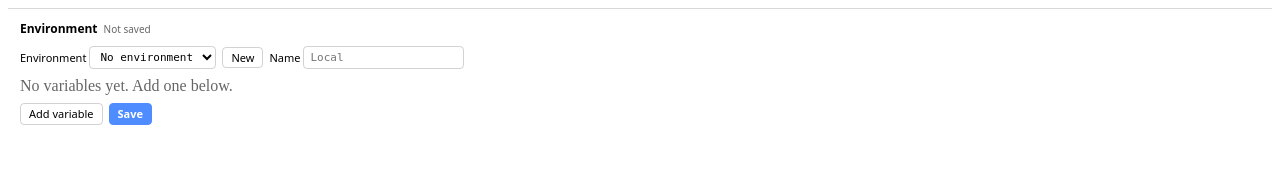
Test case: EnvironmentPanel › reports a failed save instead of showing success
This screenshot has width=1280, height=196.
Step 1. Select "Local" in the dropdown labelled "Environment" → (153, 58), box [89,46,216,69]
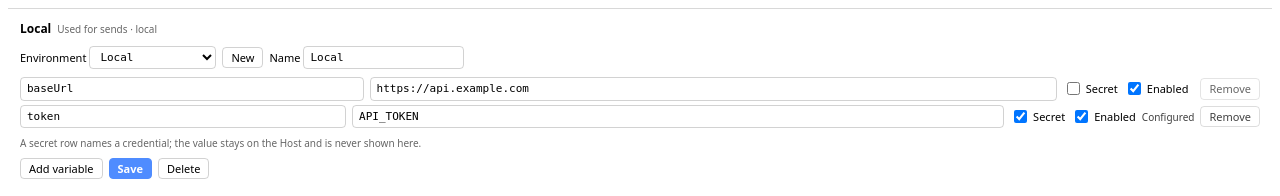
Expected: the field labelled "Name" holds "Local", [303,46,464,69]
Step 2. Click the button "Save" → (130, 169), box [108,158,152,179]
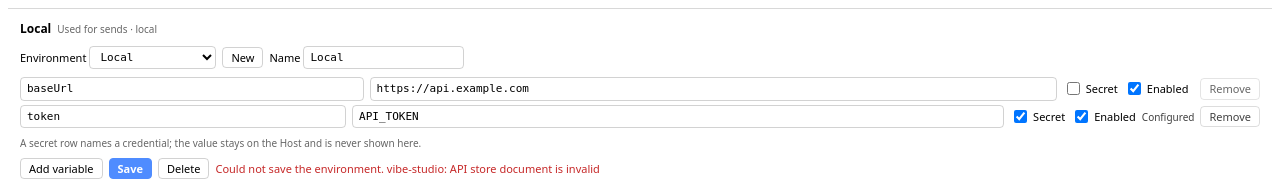
Expected: the message "Could not save the environment. vibe-studio: API store document is invalid" is shown, [216,161,600,176]
